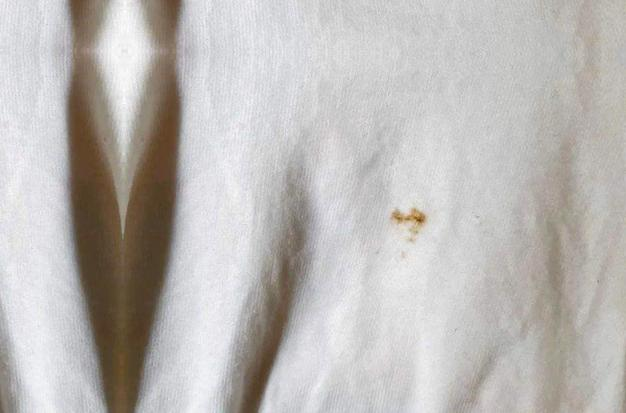stain: (384, 200, 435, 261)
